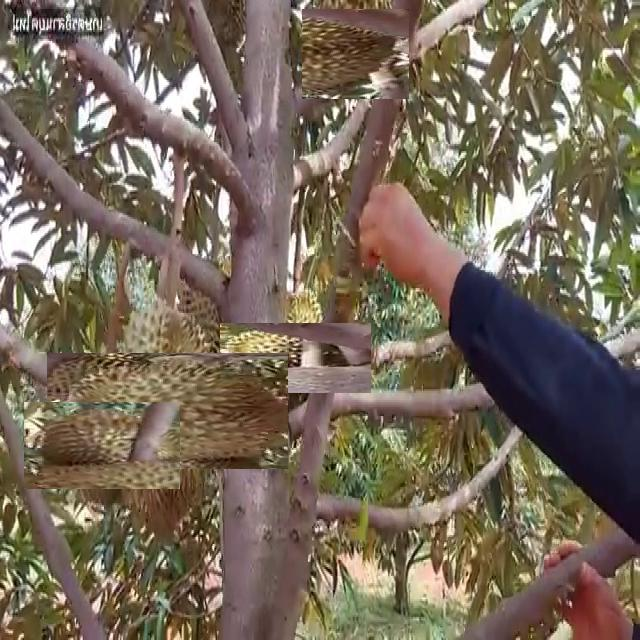durian: (78, 321, 258, 501), (41, 384, 163, 506), (240, 302, 351, 413), (306, 5, 406, 104)
